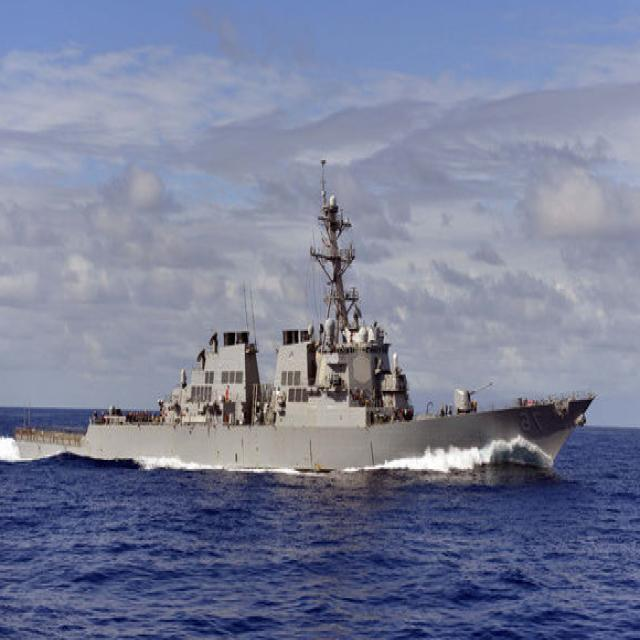navalvessels: (0, 186, 599, 474)
